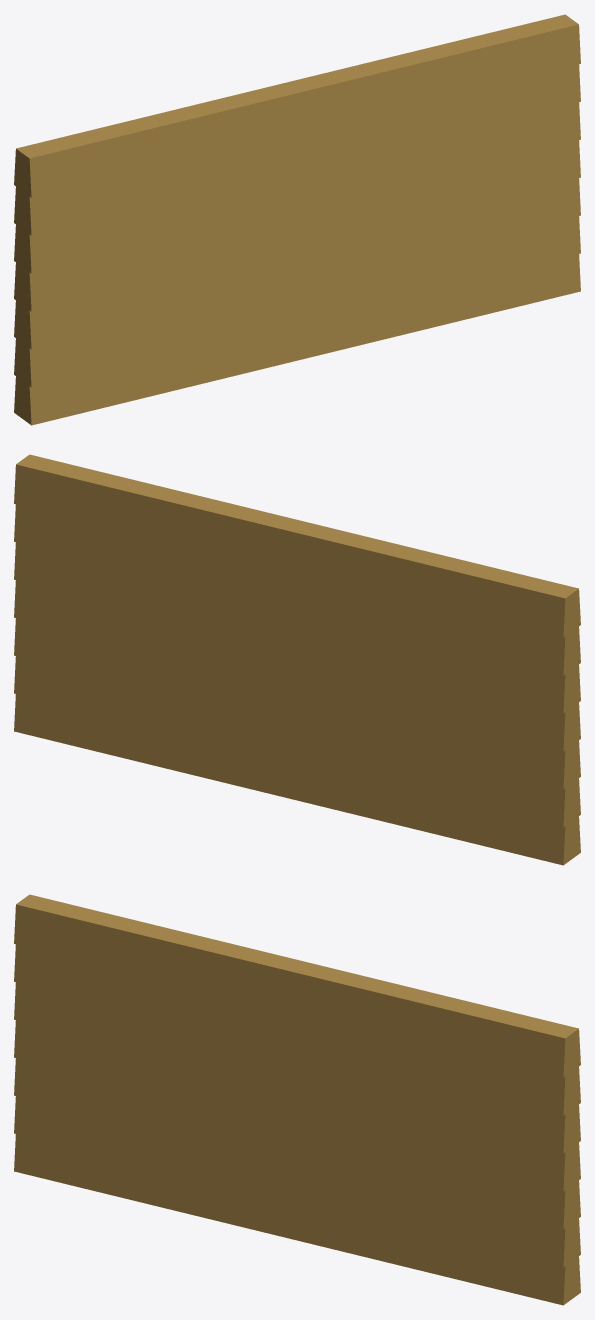
File: GarageWall01_house4.obj
3 views of the same model, one above another, from view 1: azimuth 30°, elevation 25°; view 2: azimuth 150°, elevation 25°; view 3: azimuth 330°, elevation 25° (orthographic).
Visible parts, largest first — view 1: GarageWall01_house4_Cube.005; view 2: GarageWall01_house4_Cube.005; view 3: GarageWall01_house4_Cube.005.
Boxes of the visible parts, bbox=[...] form: GarageWall01_house4_Cube.005: bbox=[14, 14, 580, 425]; GarageWall01_house4_Cube.005: bbox=[14, 454, 580, 865]; GarageWall01_house4_Cube.005: bbox=[14, 894, 580, 1305].
Bounding box in the file's own units: 7.16 × 3.3 × 0.3957.
